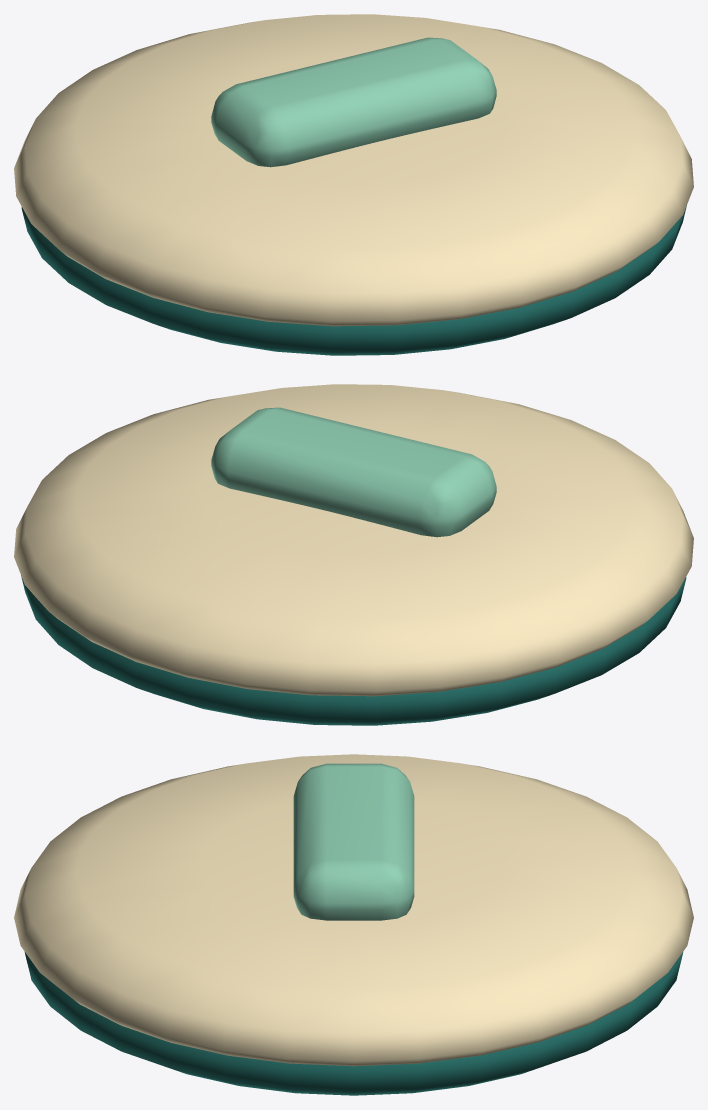
File: CollectorCap.fbx
The picture shows the model from 3 angles, top to bottom: view 1: azimuth 30°, elevation 25°; view 2: azimuth 150°, elevation 25°; view 3: azimuth 270°, elevation 25°; orthographic projection.
Parts seen in each view (by area): view 1: CollectorCap_Visual; view 2: CollectorCap_Visual; view 3: CollectorCap_Visual.
Boxes of the visible parts, box(x1,y1,x2,y2) form: CollectorCap_Visual: box(14, 14, 693, 355); CollectorCap_Visual: box(14, 384, 693, 725); CollectorCap_Visual: box(14, 754, 693, 1095).
Bounding box in the file's own units: 0.242 × 0.061 × 0.242.
